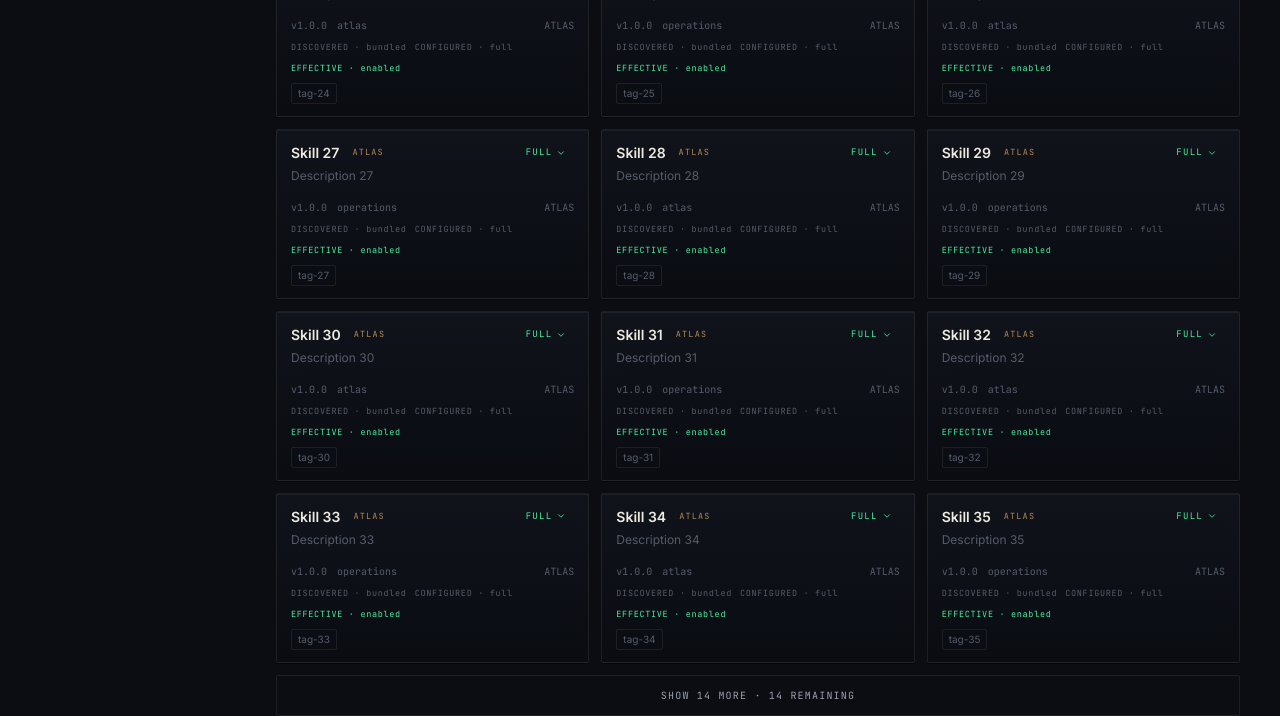
Test: Skills control plane › bounds the initial card DOM and reveals more on demand
(page scrolled)
Expected: the text "Skill 49" is not shown
Click the button "SHOW 14 MORE · 14 REMAINING". click: click(758, 695)
box: [276,674,1240,715]
(page scrolled)
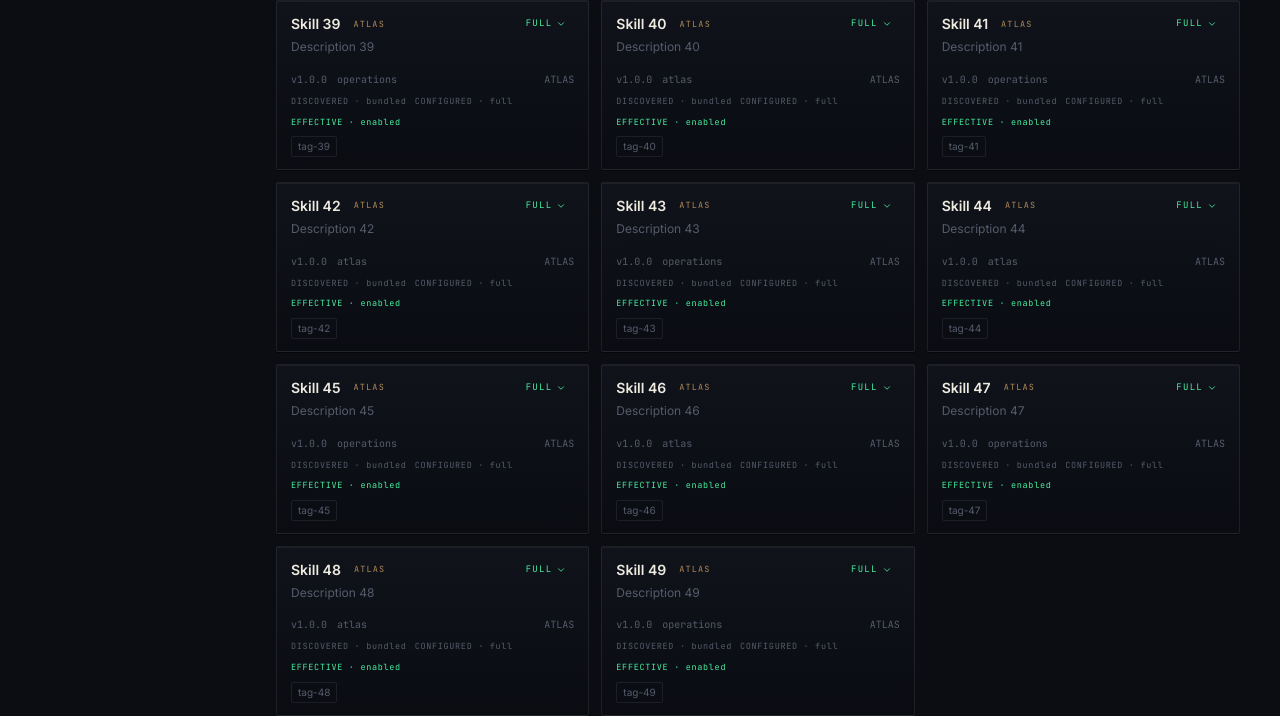
Expected: the text "Skill 49" is shown, [616,559,666,580]
